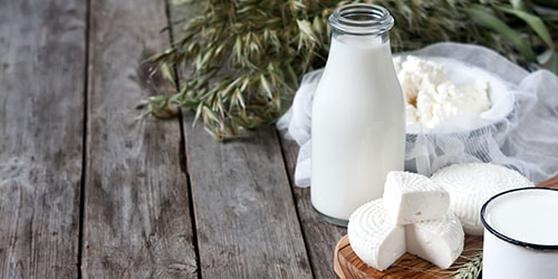milk: (305, 8, 410, 227)
